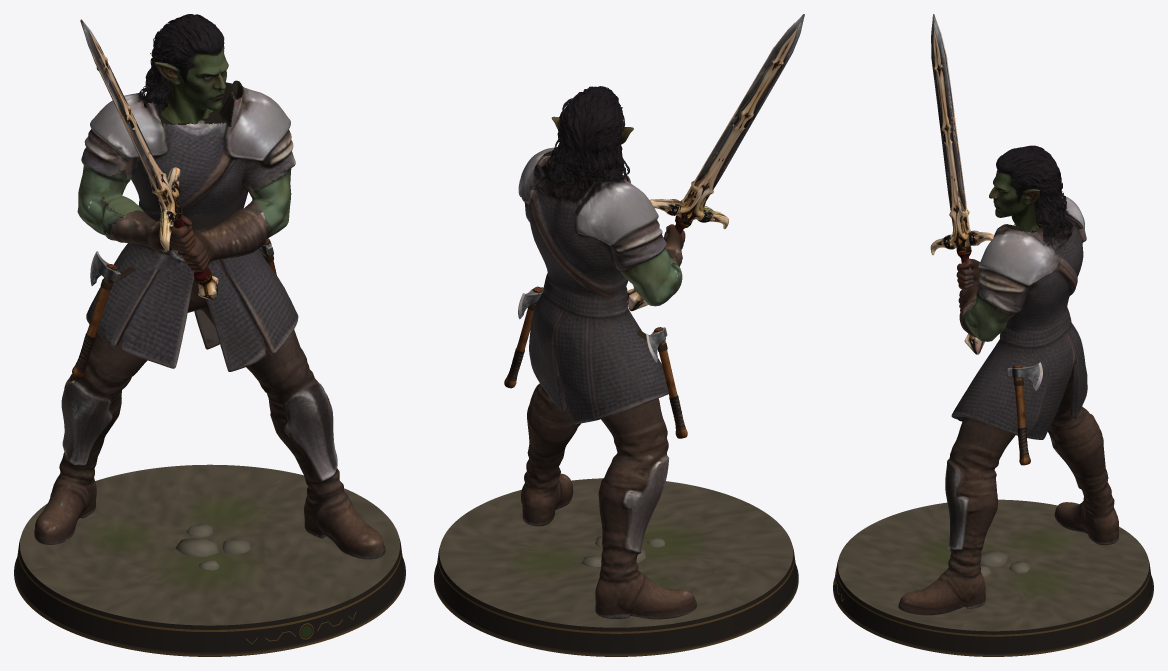
File: druk-balanced-c9d669208f41.glb
The picture shows the model from 3 angles, left to right: view 1: azimuth 30°, elevation 25°; view 2: azimuth 150°, elevation 25°; view 3: azimuth 270°, elevation 25°; orthographic projection. The views are drawn at different scales.
Parts seen in each view (by area): view 1: DrukV9_Dense_Body_REVIEW_CANDIDATE, Druk_Base_Earthy_Stone_Moss_Top, Druk_Base_Rim_3, Druk_Natural_Multiview_Head, DrukV7_Approved_BoneSword, Druk_Base_Rim_5, DrukV9_Right_Hip_Handaxe, Druk_Base_Rim_2, Druk_Base_Brass_4, Druk_Base_Brass_1, DrukV9_Recessed_Front_Neck_Closure, DrukV9_Lowered_Left_Hand (+2 smaller); view 2: DrukV9_Dense_Body_REVIEW_CANDIDATE, Druk_Base_Earthy_Stone_Moss_Top, Druk_Base_Rim_3, Druk_Natural_Multiview_Head, DrukV7_Approved_BoneSword, DrukV9_Pinned_Rear_Neck_Repair, Druk_Base_Rim_5, DrukV9_Right_Hip_Handaxe, DrukV9_Left_Hip_Handaxe, Druk_Base_Rim_2, Druk_Base_Brass_4, Druk_Base_Brass_1; view 3: DrukV9_Dense_Body_REVIEW_CANDIDATE, Druk_Base_Earthy_Stone_Moss_Top, Druk_Base_Rim_3, Druk_Natural_Multiview_Head, DrukV7_Approved_BoneSword, Druk_Base_Rim_5, DrukV9_Left_Hip_Handaxe, DrukV9_Pinned_Rear_Neck_Repair, Druk_Base_Rim_2, Druk_Base_Brass_4, Druk_Base_Brass_1, DrukV9_Lowered_Right_Hand.
Boxes of the visible parts, bbox=[...] form: DrukV9_Dense_Body_REVIEW_CANDIDATE: bbox=[34, 81, 385, 559]; Druk_Base_Earthy_Stone_Moss_Top: bbox=[20, 464, 399, 625]; Druk_Base_Rim_3: bbox=[15, 551, 404, 652]; Druk_Natural_Multiview_Head: bbox=[138, 14, 228, 124]; DrukV7_Approved_BoneSword: bbox=[80, 19, 218, 299]; Druk_Base_Rim_5: bbox=[18, 538, 401, 629]; DrukV9_Right_Hip_Handaxe: bbox=[72, 251, 120, 378]; Druk_Base_Rim_2: bbox=[14, 557, 405, 654]; Druk_Base_Brass_4: bbox=[18, 549, 401, 631]; Druk_Base_Brass_1: bbox=[14, 574, 405, 656]; DrukV9_Recessed_Front_Neck_Closure: bbox=[137, 80, 243, 126]; DrukV9_Lowered_Left_Hand: bbox=[178, 233, 210, 271]; DrukV9_Dense_Body_REVIEW_CANDIDATE: bbox=[518, 147, 696, 619]; Druk_Base_Earthy_Stone_Moss_Top: bbox=[439, 478, 793, 627]; Druk_Base_Rim_3: bbox=[435, 557, 796, 652]; Druk_Natural_Multiview_Head: bbox=[547, 86, 633, 191]; DrukV7_Approved_BoneSword: bbox=[627, 14, 804, 311]; DrukV9_Pinned_Rear_Neck_Repair: bbox=[529, 162, 637, 223]; Druk_Base_Rim_5: bbox=[438, 546, 794, 631]; DrukV9_Right_Hip_Handaxe: bbox=[646, 327, 687, 438]; DrukV9_Left_Hip_Handaxe: bbox=[504, 286, 543, 388]; Druk_Base_Rim_2: bbox=[434, 564, 798, 654]; Druk_Base_Brass_4: bbox=[438, 555, 794, 633]; Druk_Base_Brass_1: bbox=[434, 581, 798, 656]; DrukV9_Dense_Body_REVIEW_CANDIDATE: bbox=[898, 214, 1118, 615]; Druk_Base_Earthy_Stone_Moss_Top: bbox=[837, 499, 1149, 631]; Druk_Base_Rim_3: bbox=[834, 569, 1152, 653]; Druk_Natural_Multiview_Head: bbox=[989, 145, 1068, 232]; DrukV7_Approved_BoneSword: bbox=[930, 14, 994, 354]; Druk_Base_Rim_5: bbox=[837, 560, 1149, 634]; DrukV9_Left_Hip_Handaxe: bbox=[1007, 362, 1042, 465]; DrukV9_Pinned_Rear_Neck_Repair: bbox=[1043, 195, 1083, 256]; Druk_Base_Rim_2: bbox=[833, 576, 1153, 654]; Druk_Base_Brass_4: bbox=[836, 567, 1150, 636]; Druk_Base_Brass_1: bbox=[833, 590, 1153, 656]; DrukV9_Lowered_Right_Hand: bbox=[956, 258, 980, 289].
Size of the model in its own units: 1.36 by 2.39 by 1.36.
Materials: 24 (10 with a texture image).
